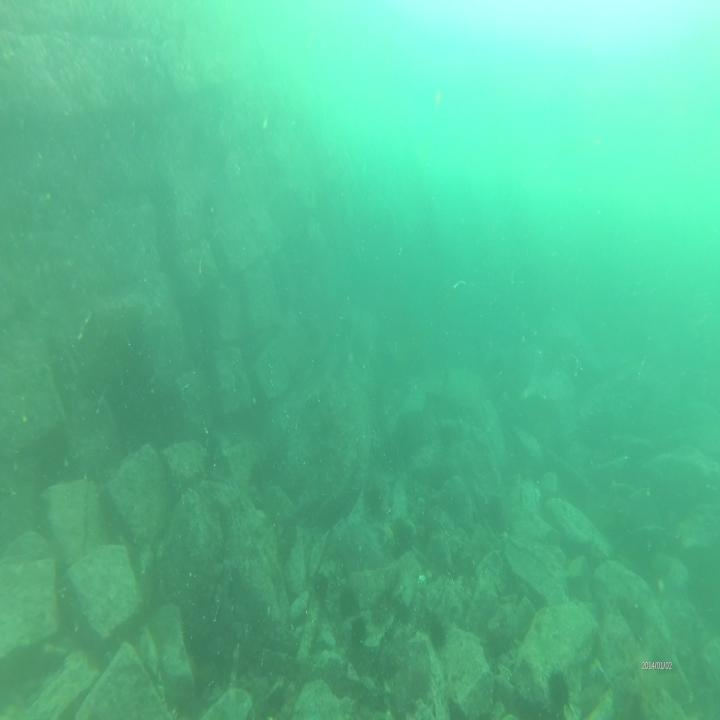echinus: (544, 663, 574, 719), (426, 607, 453, 655), (392, 514, 416, 556), (311, 566, 331, 612), (350, 612, 368, 651)
